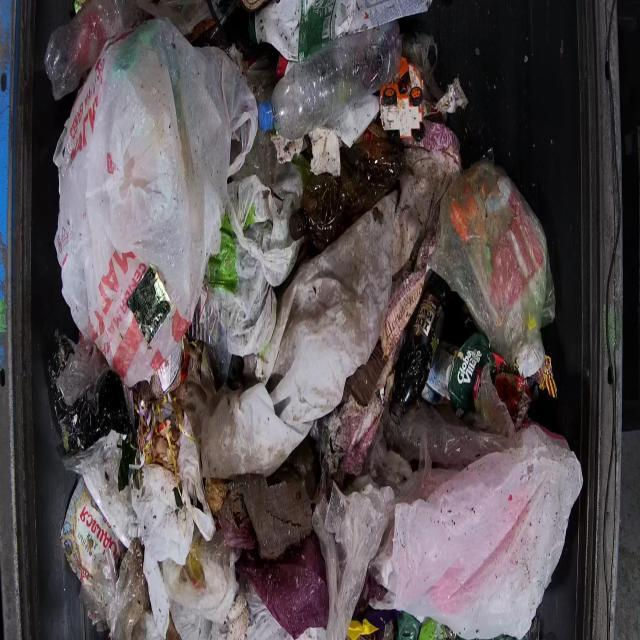other-trash: (44, 0, 581, 638)
